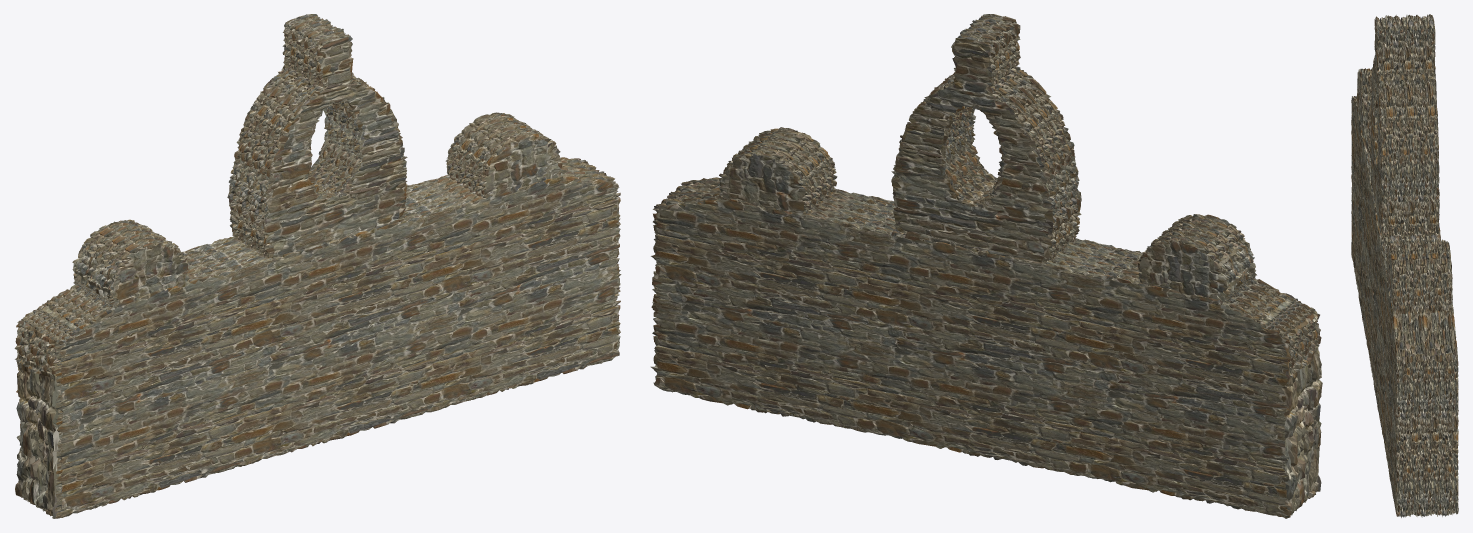
Rendered from Altar_4.glb.
3 renders of one model, left to right at view 1: azimuth 30°, elevation 25°; view 2: azimuth 150°, elevation 25°; view 3: azimuth 270°, elevation 25°, orthographic. The views are drawn at different scales.
Visible parts, largest first — view 1: Altar.001; view 2: Altar.001; view 3: Altar.001.
Boxes of the visible parts, x1,y1,x2,y2 form: Altar.001: (14,14,621,518); Altar.001: (650,14,1322,518); Altar.001: (1351,14,1458,517).
Size of the model in its own units: 1.87 by 1.21 by 0.3175.
1 material, 1 textured.
